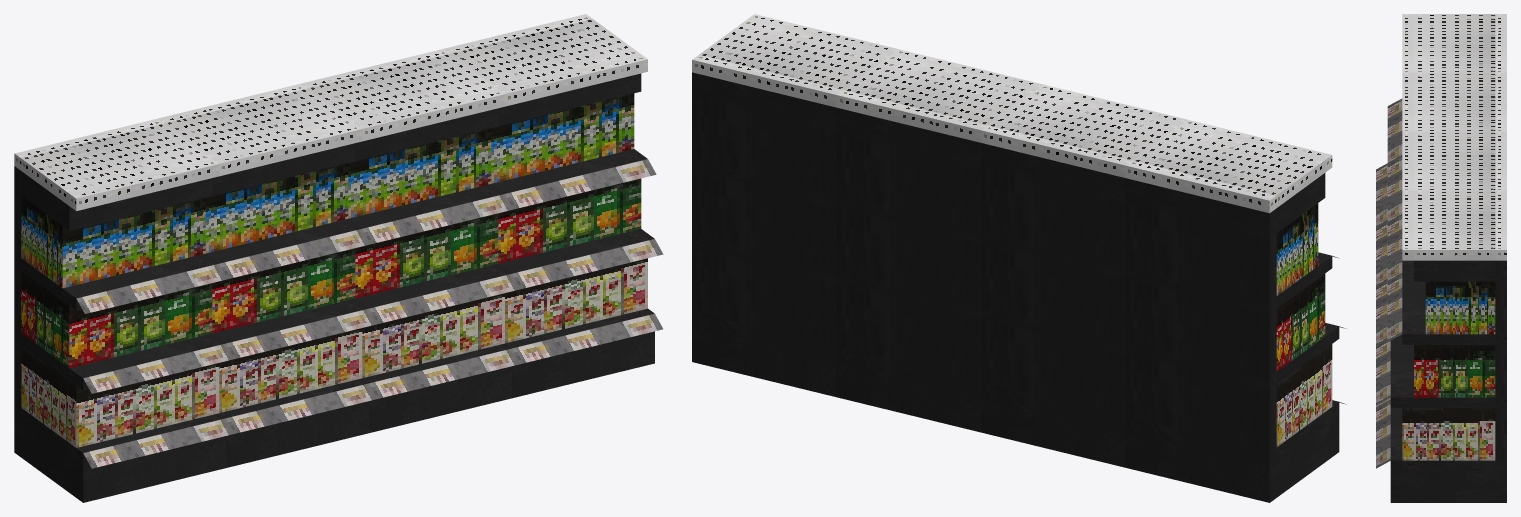
The picture shows the model from 3 angles, left to right: view 1: azimuth 30°, elevation 25°; view 2: azimuth 150°, elevation 25°; view 3: azimuth 270°, elevation 25°; orthographic projection. The views are drawn at different scales.
Parts seen in each view (by area): view 1: layer 4_3, layer 4_16, layer 4_21, layer 4_29, layer 1_0, item1_4, item3_6, item2_5, layer 1_18, layer 1_13, layer 1_34, item3_11 (+16 smaller); view 2: layer 4_3, layer 4_21, layer 4_29, layer 4_16, layer 2_1, layer 3_2, layer 2_14, layer 3_20, layer 2_27, layer 3_15, layer 2_19, layer 3_28 (+7 smaller); view 3: layer 4_29, layer 1_34, layer 4_3, layer 4_16, layer 4_21, item1_30, item2_31, layer 2_27, layer 3_28, item3_32, layer 3_20, layer 3_2 (+4 smaller).
Part boxes in pixels (x1,y1,x2,y2): layer 4_3: [14, 118, 219, 257]; layer 4_16: [158, 84, 362, 196]; layer 4_21: [300, 49, 504, 161]; layer 4_29: [443, 14, 647, 126]; layer 1_0: [14, 403, 234, 502]; item1_4: [21, 346, 219, 447]; item3_6: [21, 196, 205, 288]; item2_5: [21, 271, 212, 368]; layer 1_18: [362, 343, 520, 432]; layer 1_13: [219, 378, 377, 467]; layer 1_34: [505, 308, 662, 398]; item3_11: [205, 163, 348, 253]; layer 4_3: [1125, 120, 1332, 301]; layer 4_21: [836, 49, 1042, 230]; layer 4_29: [692, 14, 898, 195]; layer 4_16: [981, 84, 1187, 265]; layer 2_1: [1125, 323, 1346, 452]; layer 3_2: [1125, 252, 1339, 376]; layer 2_14: [981, 306, 1125, 417]; layer 3_20: [836, 196, 980, 306]; layer 2_27: [692, 236, 836, 346]; layer 3_15: [981, 231, 1125, 341]; layer 2_19: [836, 271, 980, 381]; layer 3_28: [692, 160, 836, 270]; layer 4_29: [1402, 191, 1506, 334]; layer 1_34: [1376, 402, 1506, 502]; layer 4_3: [1402, 14, 1506, 72]; layer 4_16: [1402, 73, 1506, 131]; layer 4_21: [1402, 132, 1506, 190]; item1_30: [1402, 408, 1495, 460]; item2_31: [1414, 345, 1495, 397]; layer 2_27: [1376, 338, 1506, 460]; layer 3_28: [1387, 275, 1506, 397]; item3_32: [1425, 281, 1495, 334]; layer 3_20: [1387, 216, 1413, 282]; layer 3_2: [1387, 98, 1402, 164].
Bounding box in the file's own units: 3 × 1.5 × 0.7031.
Materials: 1 (1 with a texture image).
